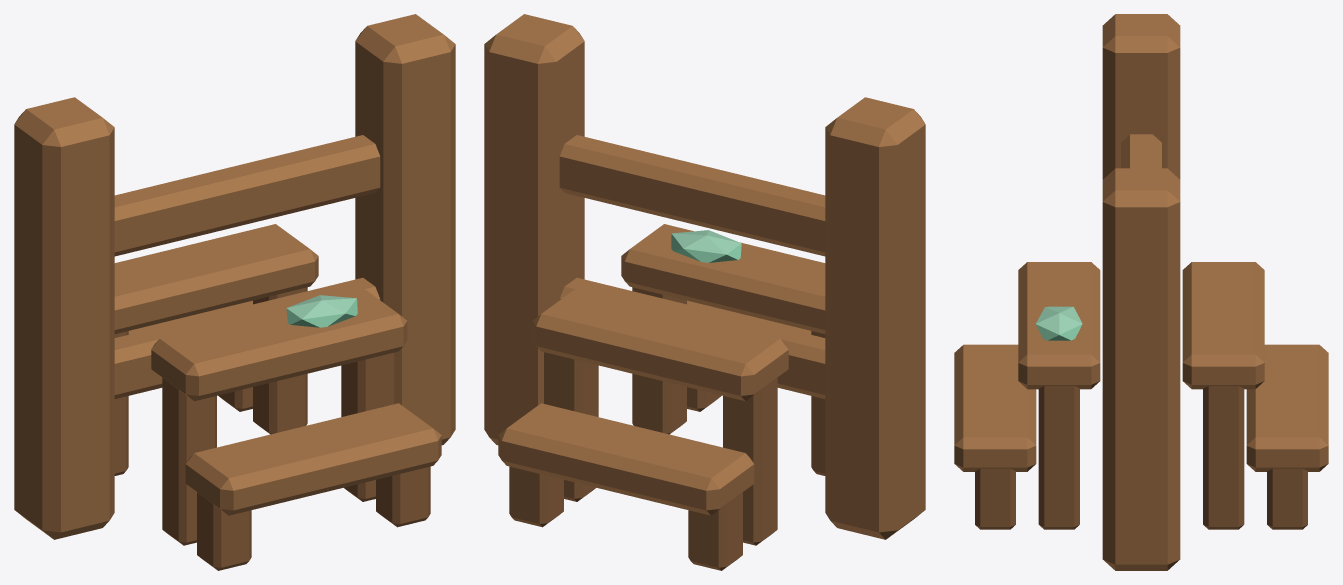
Rendered from ranch_fence_stile.fbx.
3 views of the same model, side by side, from view 1: azimuth 30°, elevation 25°; view 2: azimuth 150°, elevation 25°; view 3: azimuth 270°, elevation 25° (orthographic). The views are drawn at different scales.
Parts seen in each view (by area): view 1: ranch_fence_stile; view 2: ranch_fence_stile; view 3: ranch_fence_stile.
Part boxes in pixels (box(x1,y1,x2,y2)): ranch_fence_stile: box(14, 14, 455, 570); ranch_fence_stile: box(484, 14, 925, 570); ranch_fence_stile: box(954, 14, 1328, 570).
Size of the model in its own units: 4.85 by 4.6 by 4.1.
